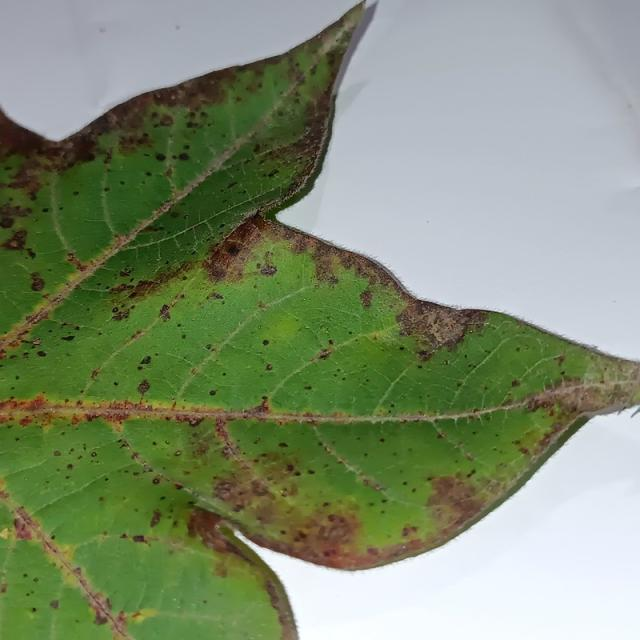Bacterial_Blight: (393, 295, 482, 350), (46, 435, 118, 482), (186, 508, 236, 552), (79, 400, 159, 425), (311, 247, 356, 289), (427, 475, 472, 510), (3, 393, 51, 415), (523, 391, 566, 413), (264, 577, 286, 618), (320, 517, 352, 543), (1, 227, 31, 253), (212, 478, 241, 502), (12, 512, 34, 541), (241, 401, 274, 419), (206, 261, 229, 282), (131, 380, 156, 399), (66, 252, 88, 272), (28, 271, 47, 293), (111, 304, 131, 322), (114, 610, 129, 631), (108, 282, 134, 294), (359, 289, 374, 308), (137, 354, 153, 371), (315, 347, 333, 361), (93, 610, 108, 626), (416, 349, 434, 362), (149, 509, 161, 528), (335, 32, 350, 47), (259, 264, 277, 276), (158, 305, 171, 321), (401, 525, 417, 538), (0, 216, 14, 229), (18, 416, 33, 427), (0, 526, 11, 540), (188, 416, 201, 427), (208, 292, 223, 301), (556, 353, 566, 366), (228, 245, 239, 256), (132, 534, 145, 543), (119, 268, 132, 277), (366, 547, 379, 556), (90, 368, 100, 379), (178, 152, 190, 161), (267, 169, 279, 178), (60, 335, 75, 342), (155, 152, 166, 161), (285, 463, 295, 472), (49, 599, 58, 609), (131, 612, 142, 620), (36, 350, 47, 357), (170, 211, 181, 218), (511, 379, 520, 387), (466, 452, 474, 461), (32, 338, 42, 345), (278, 442, 289, 448), (1, 583, 7, 594), (437, 432, 445, 439), (66, 463, 74, 470), (265, 364, 273, 371), (262, 339, 270, 346), (53, 450, 61, 457), (152, 477, 160, 484), (112, 306, 119, 313), (375, 484, 382, 491), (209, 390, 217, 396), (174, 450, 182, 456), (41, 207, 49, 213), (261, 395, 268, 401), (328, 339, 334, 346), (205, 344, 212, 350), (398, 345, 405, 351), (145, 171, 152, 177), (304, 385, 312, 390), (379, 437, 385, 443), (137, 365, 143, 371), (91, 451, 97, 457), (31, 607, 37, 613), (103, 187, 110, 192), (559, 370, 566, 375), (72, 191, 79, 196), (219, 223, 226, 228), (113, 381, 119, 386), (417, 364, 423, 369), (389, 403, 395, 408), (152, 441, 158, 446), (181, 334, 187, 339), (119, 180, 125, 185), (33, 577, 39, 582), (524, 345, 529, 350), (15, 375, 20, 380), (23, 573, 28, 578)
Cotton: (0, 9, 639, 639)
